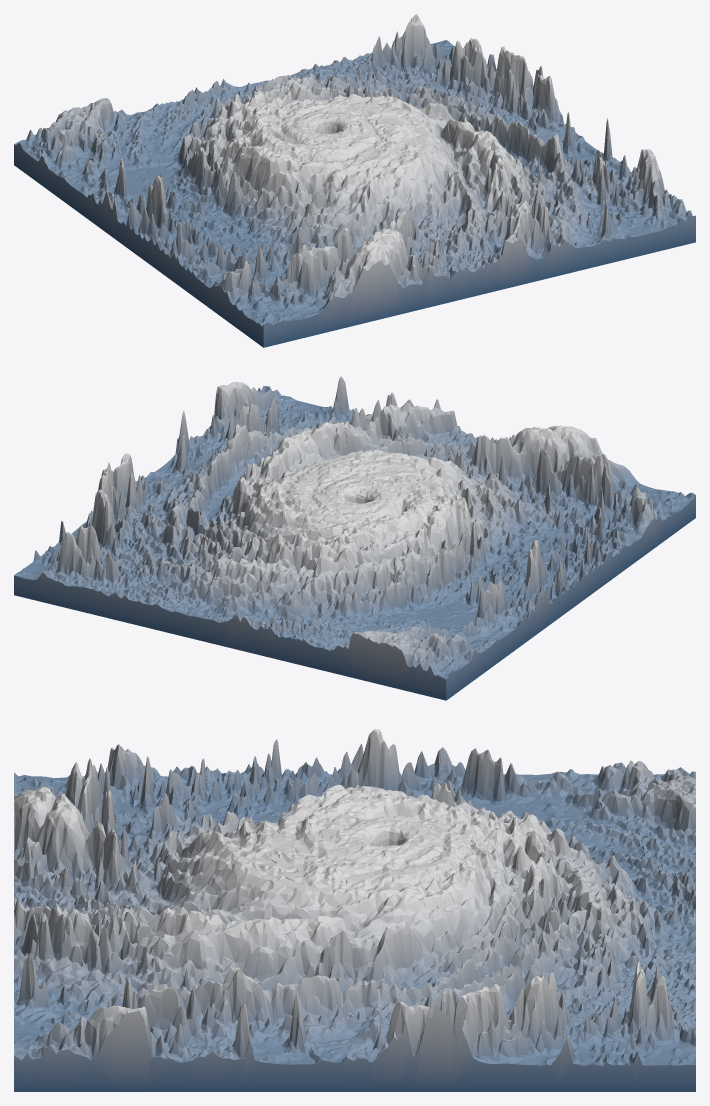
File: katrina.glb
3 renders of one model, top to bottom at view 1: azimuth 30°, elevation 25°; view 2: azimuth 150°, elevation 25°; view 3: azimuth 270°, elevation 25°, orthographic. The views are drawn at different scales.
Visible parts, largest first — view 1: katrina.stl; view 2: katrina.stl; view 3: katrina.stl.
Boxes of the visible parts, <box> form: katrina.stl: <box>14,14,695,347</box>; katrina.stl: <box>14,376,695,700</box>; katrina.stl: <box>14,729,695,1091</box>.
Size of the model in its own units: 97.5 by 16.6 by 97.5.
